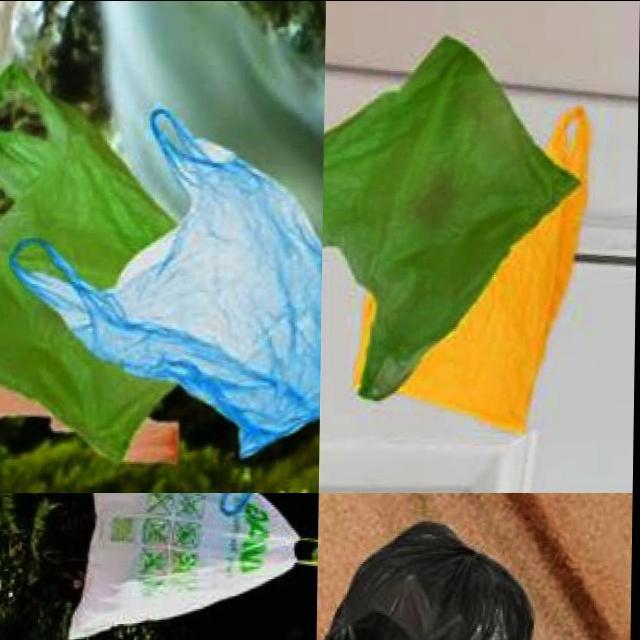Single-layer Plastic: (10, 106, 321, 457), (324, 36, 578, 399), (0, 64, 174, 459), (400, 106, 590, 432), (69, 494, 299, 639), (325, 521, 531, 639)
